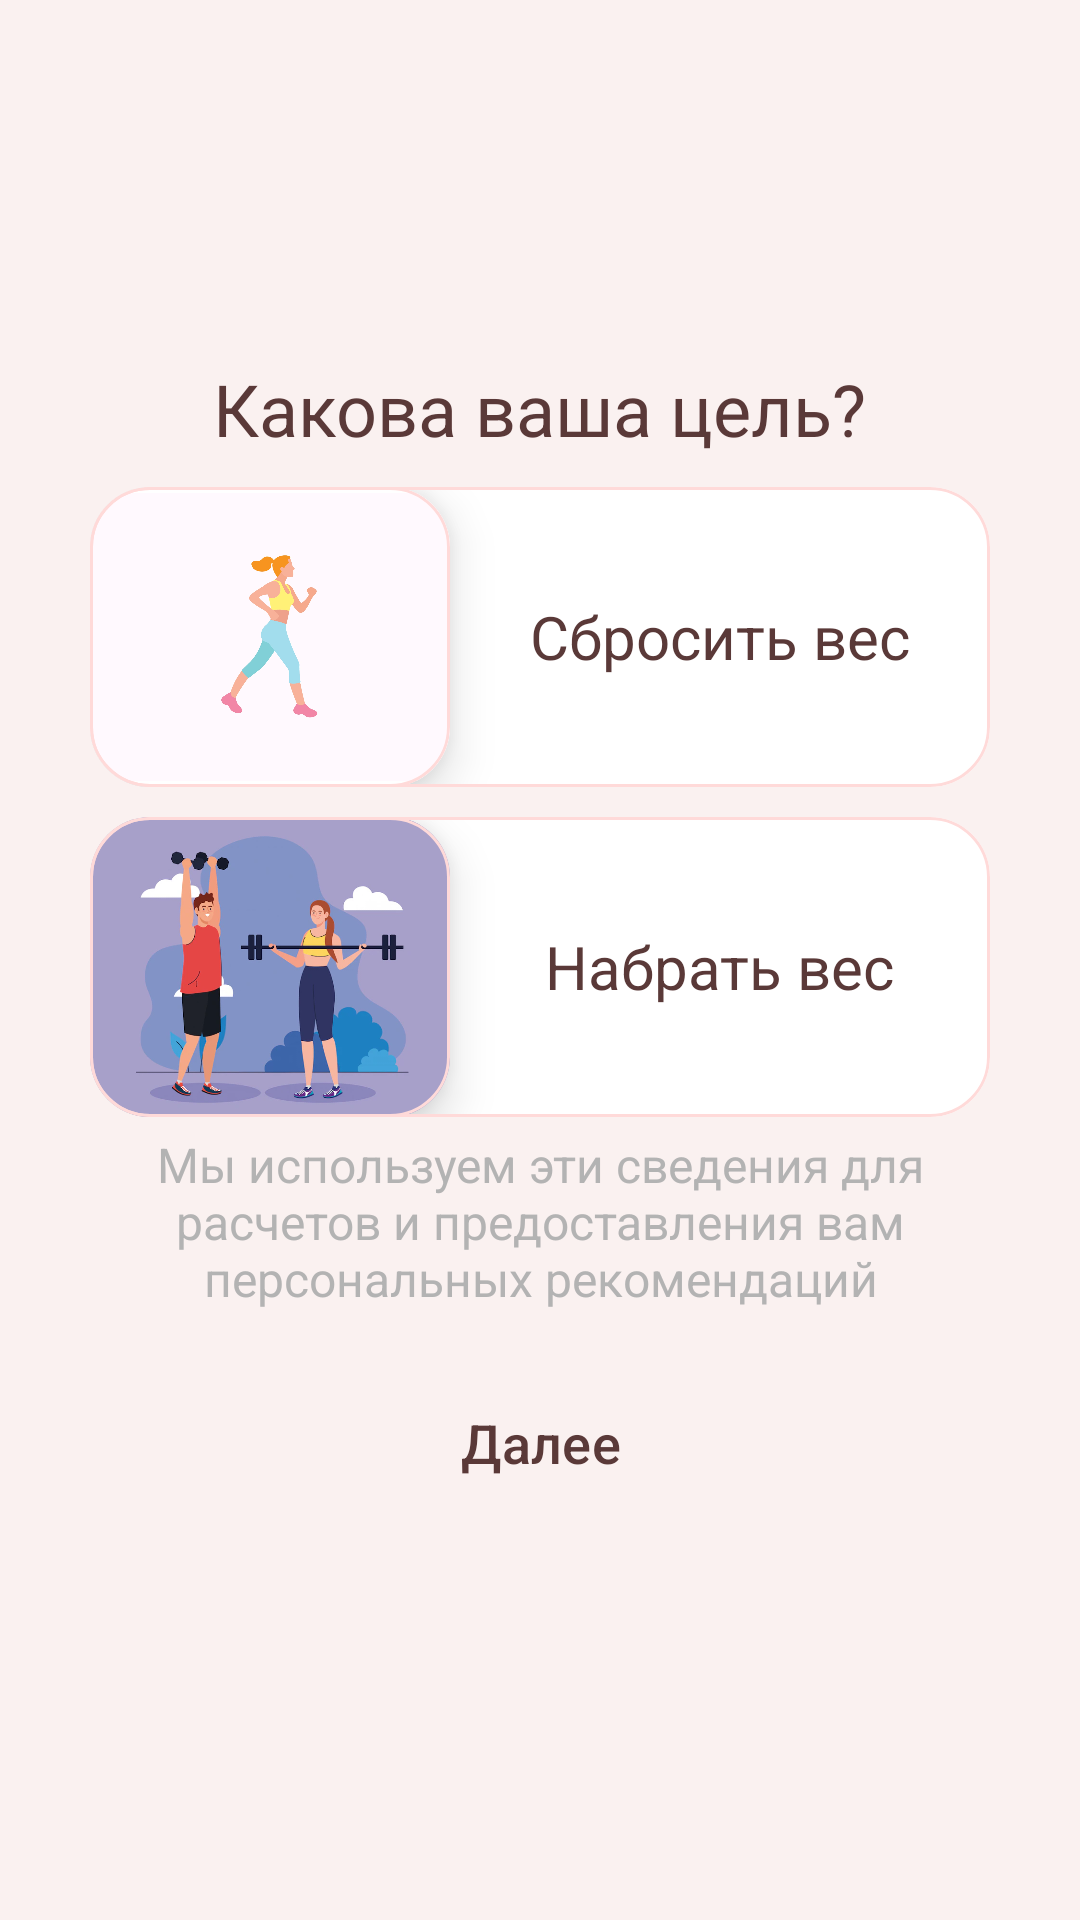

Icon bounding boxes for this 1080×1920 phone screenshot, format (x1, y1, x2, y2):
weight gain: (90, 817, 450, 1117)
weight lost: (90, 487, 450, 787)
